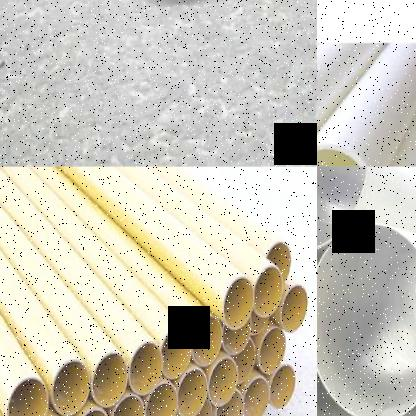pipe: (317, 220, 416, 416), (52, 360, 90, 415), (92, 353, 128, 406), (129, 342, 163, 395), (223, 277, 254, 330), (191, 316, 223, 367), (161, 327, 192, 379), (7, 377, 48, 416), (253, 265, 283, 317), (176, 368, 208, 416), (209, 356, 238, 406), (258, 327, 286, 374), (317, 144, 375, 166), (282, 284, 308, 333), (269, 364, 296, 410), (223, 315, 252, 355), (146, 382, 177, 416), (266, 241, 291, 283), (243, 376, 269, 416), (235, 338, 255, 383), (214, 389, 244, 416), (111, 395, 144, 416), (184, 400, 212, 416)
